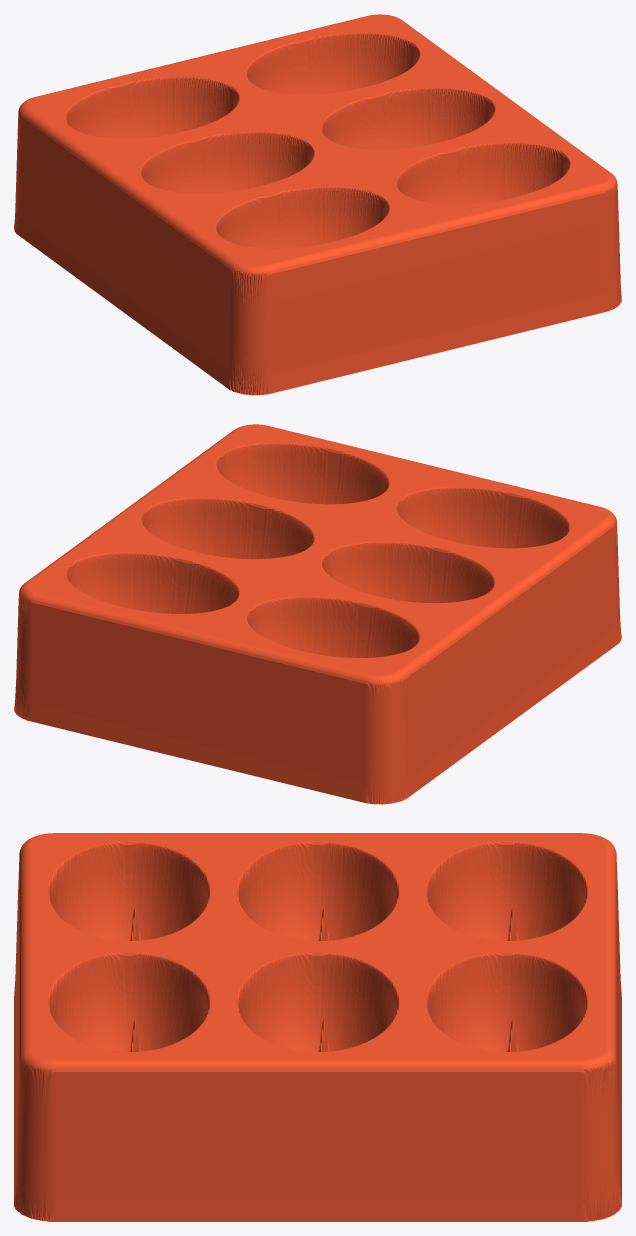
The model's file is mold.glb.
The picture shows the model from 3 angles, top to bottom: view 1: azimuth 30°, elevation 25°; view 2: azimuth 150°, elevation 25°; view 3: azimuth 270°, elevation 25°; orthographic projection. The views are drawn at different scales.
Parts seen in each view (by area): view 1: geometry_0; view 2: geometry_0; view 3: geometry_0.
Part boxes in pixels (bbox=[...]): geometry_0: bbox=[14, 14, 621, 395]; geometry_0: bbox=[14, 424, 621, 804]; geometry_0: bbox=[14, 833, 621, 1221].
Size of the model in its own units: 0.1246 by 0.0377 by 0.1338.
